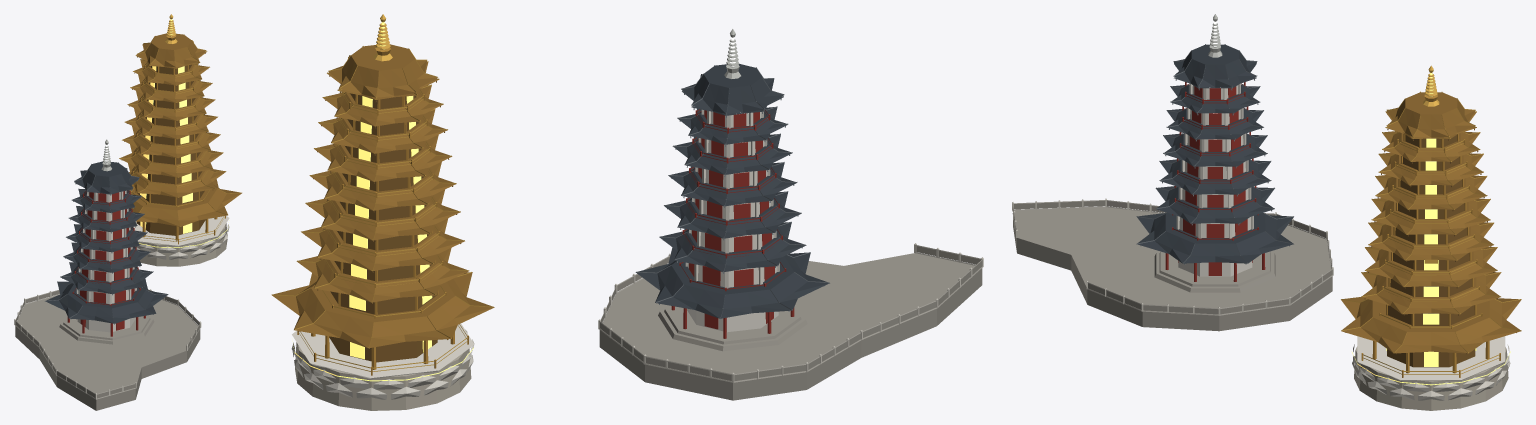
Rendered from twin_pagodas.glb.
3 views of the same model, side by side, from view 1: azimuth 30°, elevation 25°; view 2: azimuth 150°, elevation 25°; view 3: azimuth 270°, elevation 25° (orthographic). The views are drawn at different scales.
Parts seen in each view (by area): view 1: SunPagoda, MoonPagoda, LakesideRailings; view 2: SunPagoda, MoonPagoda, LakesideRailings; view 3: SunPagoda, MoonPagoda, LakesideRailings.
Boxes of the visible parts, bbox=[...] form: SunPagoda: bbox=[119, 14, 241, 266]; MoonPagoda: bbox=[45, 139, 168, 344]; LakesideRailings: bbox=[14, 289, 201, 410]; SunPagoda: bbox=[271, 14, 494, 410]; MoonPagoda: bbox=[635, 29, 829, 351]; LakesideRailings: bbox=[598, 243, 983, 400]; SunPagoda: bbox=[1341, 65, 1521, 410]; MoonPagoda: bbox=[1136, 14, 1293, 292]; LakesideRailings: bbox=[1012, 198, 1333, 331].
Bounding box in the file's own units: 56.77 × 42.6 × 62.97.
